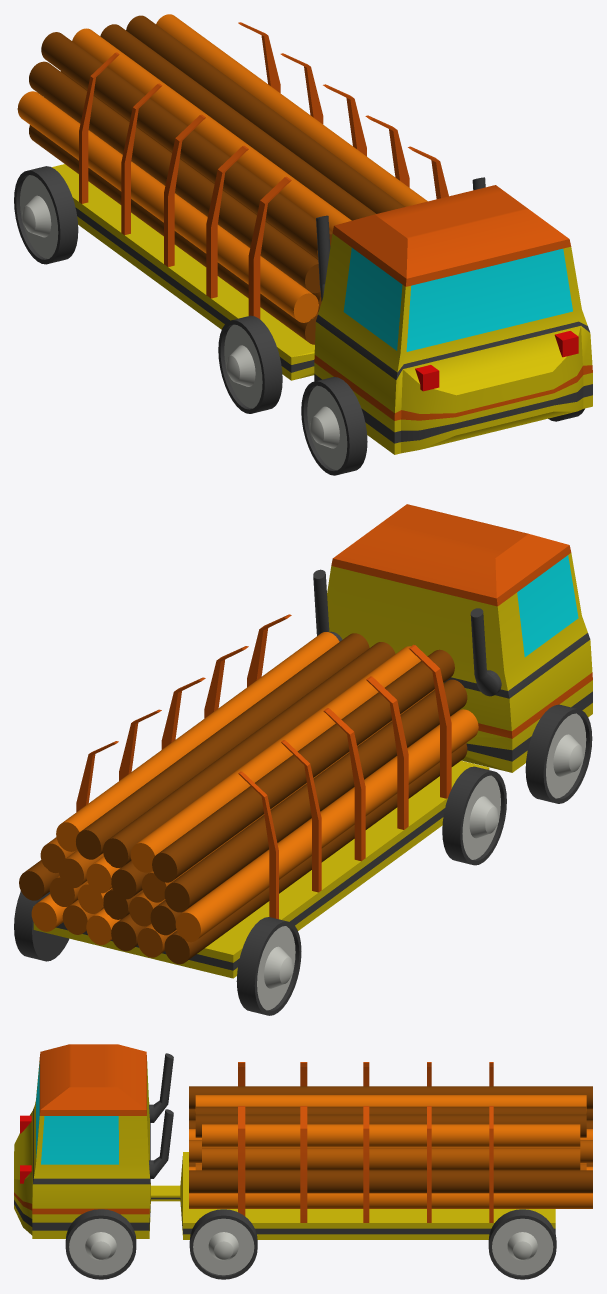
The model's file is camion moche.fbx.
The picture shows the model from 3 angles, top to bottom: view 1: azimuth 30°, elevation 25°; view 2: azimuth 150°, elevation 25°; view 3: azimuth 270°, elevation 25°; orthographic projection. The views are drawn at different scales.
Visible parts, largest first — view 1: camion; view 2: camion; view 3: camion.
Boxes of the visible parts, x1=… form: camion: x1=14, y1=14, x2=592, y2=475; camion: x1=14, y1=504, x2=592, y2=1015; camion: x1=14, y1=1044, x2=592, y2=1279.
Bounding box in the file's own units: 2456 × 2040 × 6237.
